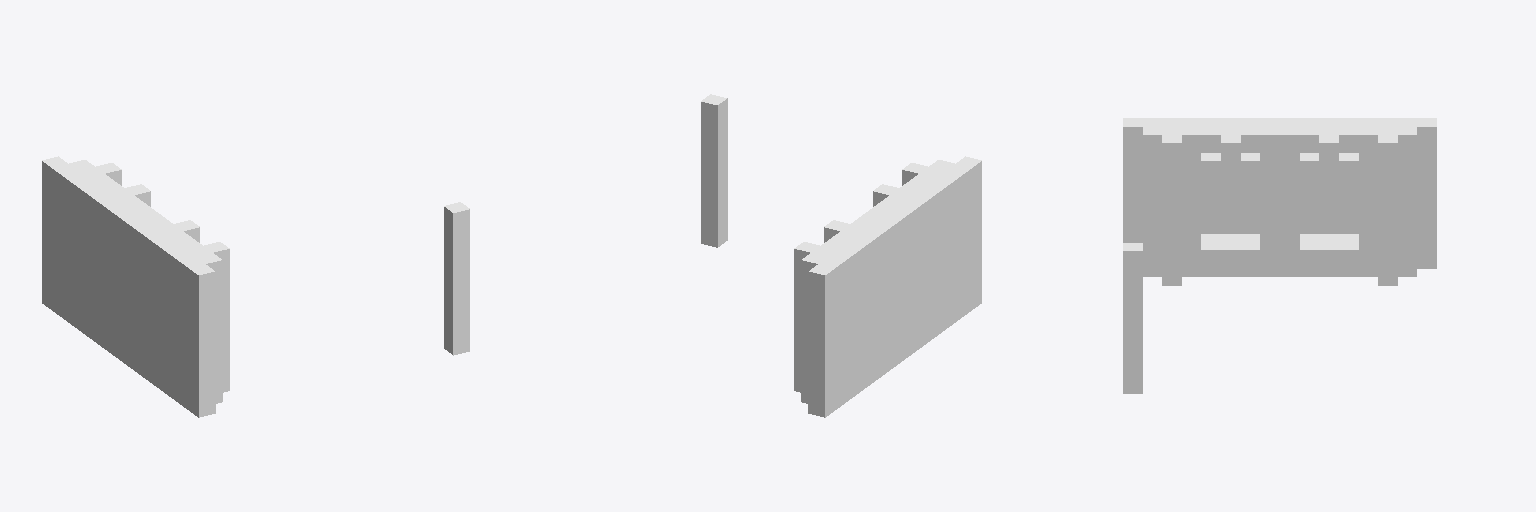
Rendered from towar-25.obj.
3 views of the same model, side by side, from view 1: azimuth 30°, elevation 25°; view 2: azimuth 150°, elevation 25°; view 3: azimuth 270°, elevation 25° (orthographic).
Visible parts, largest first — view 1: towar-25; view 2: towar-25; view 3: towar-25.
Boxes of the visible parts, box(x1,y1,x2,y2) form: towar-25: box(42, 156, 469, 417); towar-25: box(701, 94, 981, 417); towar-25: box(1123, 118, 1436, 393).
Bounding box in the file's own units: 16 × 8 × 16.